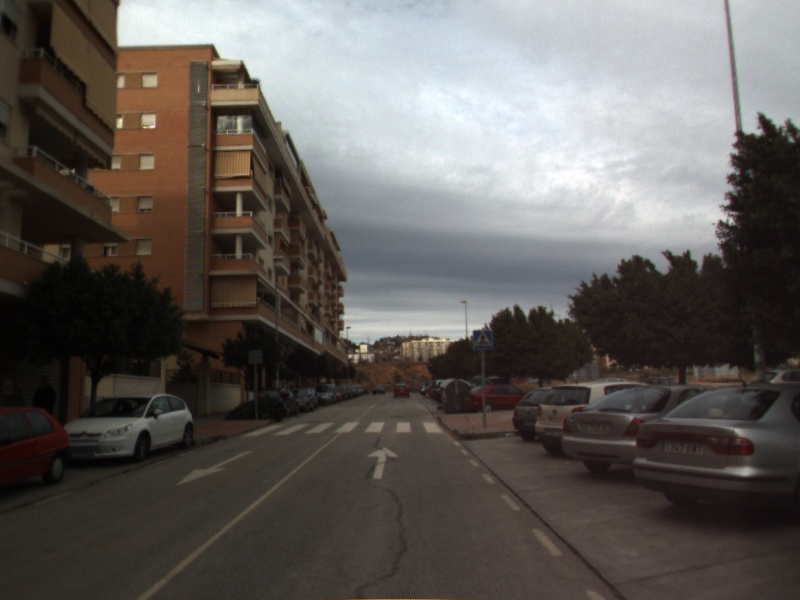STRAIGHT: (366, 444, 401, 481)
